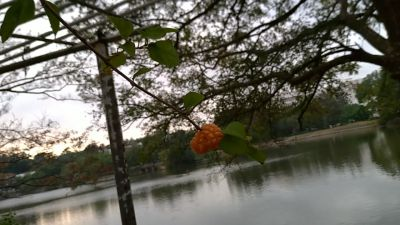eggs: (189, 122, 225, 152)
